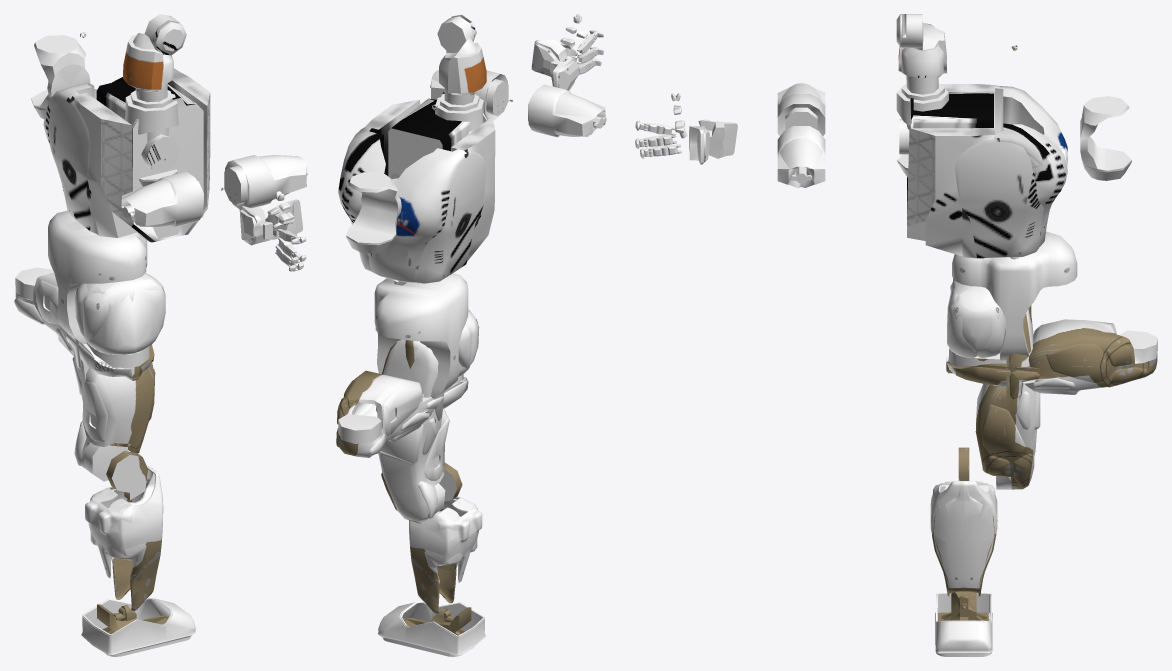
Rendered from valkyrie-r5.glb.
3 views of the same model, side by side, from view 1: azimuth 30°, elevation 25°; view 2: azimuth 150°, elevation 25°; view 3: azimuth 270°, elevation 25° (orthographic). The views are drawn at different scales.
Visible parts, largest first — view 1: dae_000_000.003, dae_000_000.053, dae_000_000.054, dae_000_000, dae_000_000.056, dae_000_000.052, dae_000_000.048, dae_000_001.001, dae_000_000.031, dae_000_000.011, dae_000_000.049, dae_000_000.007 (+4 smaller); view 2: dae_000_000.003, dae_000_000.053, dae_000_000, dae_000_000.048, dae_000_000.056, dae_000_000.049, dae_000_001.001, dae_000_000.007, dae_000_000.011, dae_000_000.054, dae_000_000.031, dae_000_000.013 (+4 smaller); view 3: dae_000_000.003, dae_000_000.048, dae_000_000.053, dae_000_000, dae_000_000.054, dae_000_000.056, dae_000_000.049, dae_000_001.001, dae_000_000.031, dae_000_000.007, dae_000_000.052, dae_000_000.011 (+3 smaller).
Part boxes in pixels (x1,y1,x2,y2): dae_000_000.003: (43,68,210,242); dae_000_000.053: (72,336,155,481); dae_000_000.054: (85,451,162,608); dae_000_000: (48,210,147,343); dae_000_000.056: (81,597,195,656); dae_000_000.052: (75,272,165,354); dae_000_000.048: (14,267,154,380); dae_000_001.001: (123,14,186,108); dae_000_000.031: (224,155,307,208); dae_000_000.011: (120,171,203,227); dae_000_000.049: (85,451,163,610); dae_000_000.007: (31,35,90,119); dae_000_000.003: (338,92,495,283); dae_000_000.053: (376,339,449,523); dae_000_000: (374,273,468,398); dae_000_000.048: (336,370,468,457); dae_000_000.056: (378,601,485,656); dae_000_000.049: (409,463,481,610); dae_000_001.001: (437,14,486,110); dae_000_000.007: (346,172,401,253); dae_000_000.011: (528,84,606,137); dae_000_000.054: (410,462,482,613); dae_000_000.031: (430,70,508,120); dae_000_000.013: (531,40,567,76); dae_000_000.003: (907,84,1067,258); dae_000_000.048: (946,319,1157,394); dae_000_000.053: (975,305,1040,489); dae_000_000: (952,231,1077,360); dae_000_000.054: (930,447,996,596); dae_000_000.056: (935,591,992,656); dae_000_000.049: (932,448,997,596); dae_000_001.001: (896,14,946,100); dae_000_000.031: (777,126,825,187); dae_000_000.007: (1080,96,1131,180); dae_000_000.052: (947,281,1001,358); dae_000_000.011: (777,83,825,135).
Size of the model in its own units: 0.5396 by 1.87 by 1.42.
Materials: 57 (55 with a texture image).
